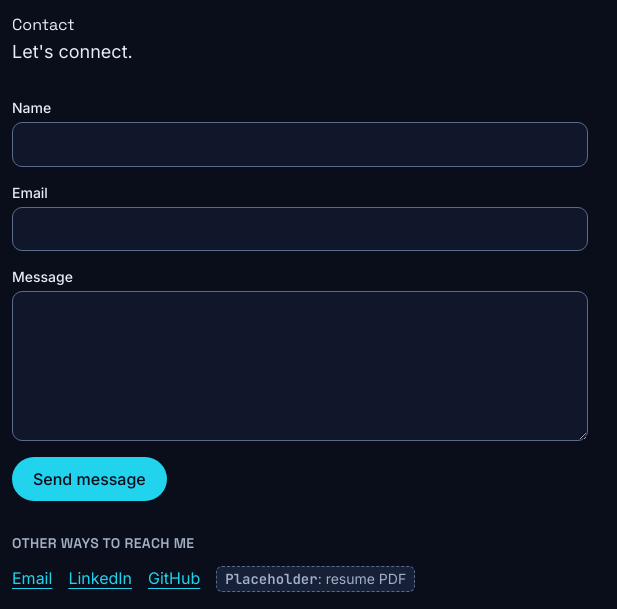
Scenario: Contact (access key present) › clears the fields on a confirmed submission
This screenshot has width=617, height=609.
Step 1. Type "Ada Lovelace" into the field labelled "Name" → (300, 145), box [12, 122, 588, 167]
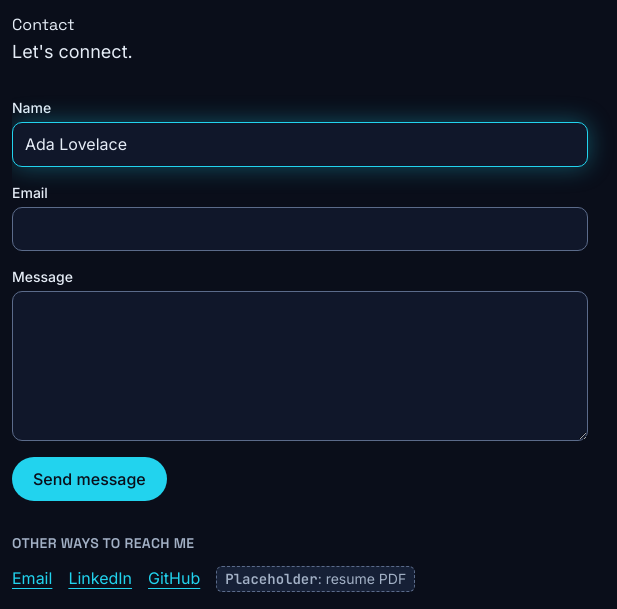
Step 2. Type "ada@example.com" into the field labelled "Email" → (300, 229), box [12, 207, 588, 251]
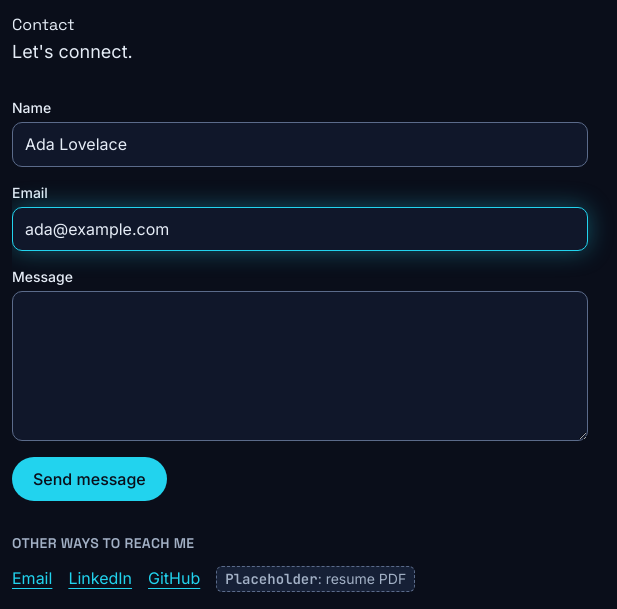
Step 3. Type "Hello there" into the text box labelled "Message" → (300, 366), box [12, 291, 588, 441]
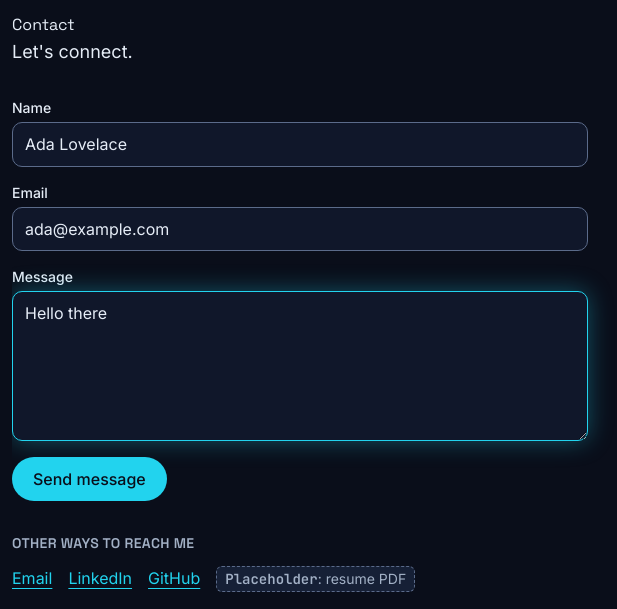
Step 4. Click the button "Send message" → (89, 479), box [12, 457, 167, 501]
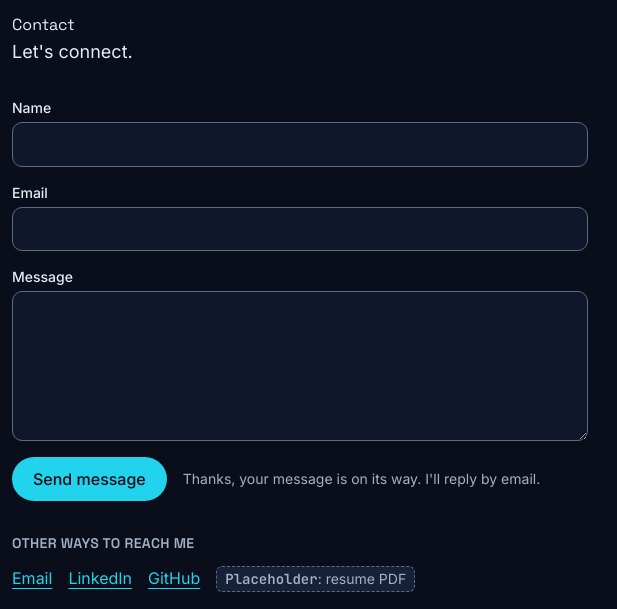
Expected: the text "Thanks, your message is on its way. I'll reply by email." is shown, [183, 469, 540, 489]
Expected: the field labelled "Name" is empty, [12, 122, 588, 167]
Expected: the text box labelled "Message" is empty, [12, 291, 588, 441]
